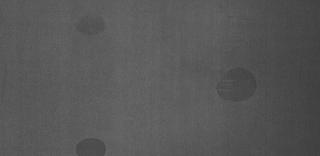oil spot: (215, 63, 261, 105), (75, 12, 109, 36), (74, 136, 108, 156)
